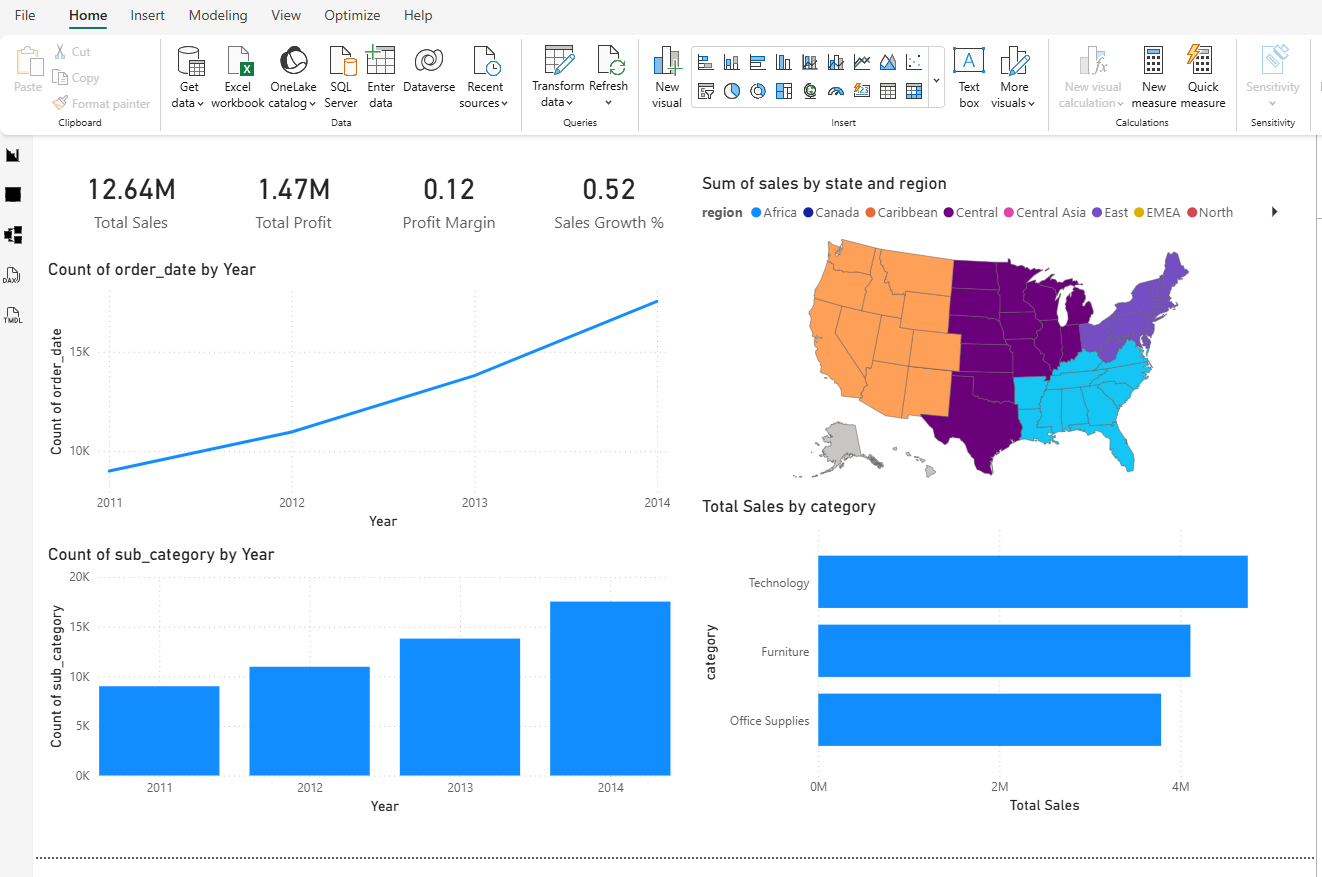

This screenshot's page, from the dashboard's own definition file:
{"tool":"powerbi","page":{"name":"Page 1","canvas":[1280,720],"ordinal":0},"visuals":[{"type":"card","fields":{"Values":["SuperStoreOrders.Total Sales"]},"box":[10,0,175.6,123.7],"z":0},{"type":"card","fields":{"Values":["SuperStoreOrders.Total Profit"]},"box":[185.6,0,148.7,123.7],"z":1},{"type":"card","fields":{"Values":["SuperStoreOrders.Profit Margin"]},"box":[334.2,0,161.6,123.7],"z":2},{"type":"card","fields":{"Values":["SuperStoreOrders.Sales Growth %"]},"box":[495.8,0,157.6,123.7],"z":3},{"type":"lineChart","fields":{"Category":["SuperStoreOrders.order_date.Variation.Date Hierarchy.Year","SuperStoreOrders.order_date.Variation.Date Hierarchy.Quarter","SuperStoreOrders.order_date.Variation.Date Hierarchy.Month","SuperStoreOrders.order_date.Variation.Date Hierarchy.Day"],"Y":["CountNonNull(SuperStoreOrders.order_date)"]},"box":[10,123.7,630.5,274.4],"z":4},{"type":"columnChart","fields":{"Category":["SuperStoreOrders.order_date.Variation.Date Hierarchy.Year","SuperStoreOrders.order_date.Variation.Date Hierarchy.Quarter","SuperStoreOrders.order_date.Variation.Date Hierarchy.Month","SuperStoreOrders.order_date.Variation.Date Hierarchy.Day"],"Y":["CountNonNull(SuperStoreOrders.sub_category)"]},"box":[10,408,631,274],"z":5},{"type":"clusteredBarChart","fields":{"Category":["SuperStoreOrders.category"],"Y":["SuperStoreOrders.Total Sales"]},"box":[662.1,360.1,586.6,321.7],"z":7},{"type":"shapeMap","fields":{"Category":["SuperStoreOrders.state"],"Series":["SuperStoreOrders.region"],"Value":["Sum(SuperStoreOrders.sales)"]},"box":[662.4,37.9,586.6,322.2],"z":8}]}

Visuals, with their boxes on the page's 1280x720 design canvas (x1, y1, x2, y2). These are canvas units, not pixel positions in the 1322x877 screenshot, which may show the page scaled, cropped or inside an application window:
card - SuperStoreOrders.Total Sales: 10:0:186:124
card - SuperStoreOrders.Total Profit: 186:0:334:124
card - SuperStoreOrders.Profit Margin: 334:0:496:124
card - SuperStoreOrders.Sales Growth %: 496:0:653:124
lineChart - SuperStoreOrders.order_date.Variation.Date Hierarchy.Year x SuperStoreOrders.order_date.Variation.Date Hierarchy.Quarter: 10:124:640:398
columnChart - SuperStoreOrders.order_date.Variation.Date Hierarchy.Year x SuperStoreOrders.order_date.Variation.Date Hierarchy.Quarter: 10:408:641:682
clusteredBarChart - SuperStoreOrders.category x SuperStoreOrders.Total Sales: 662:360:1249:682
shapeMap - SuperStoreOrders.state x SuperStoreOrders.region: 662:38:1249:360
